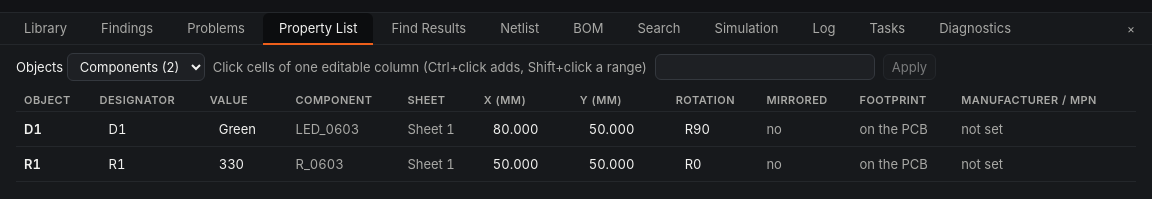
Test: Property List tab › mixed cells with an empty field: Apply is disabled with the reason until a value is given (F3, S3)
The width and height of the screenshot is (1152, 199).
Click the button with aria-label "Pick every Value cell".
click(229, 100)  # box [210,93,248,107]
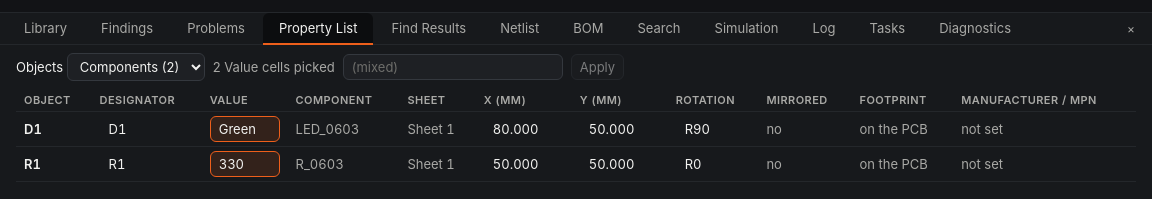
Expected: the button "Apply" is disabled, [571,54,624,80]
Press Enter in the field named "New value", box [343,54,563,80]
Type "1k" into the field named "New value".
click(453, 67); type("1k")  # box [343,54,563,80]
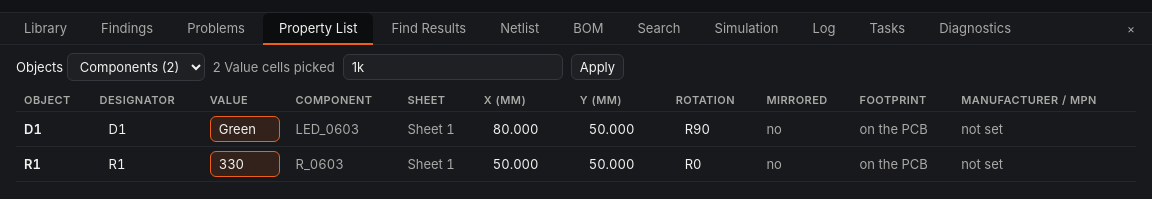
Result: the button "Apply" is enabled at [571,54,624,80]
Click the button with aria-label "Pick every Rotation cell".
click(705, 100)  # box [676,93,735,107]
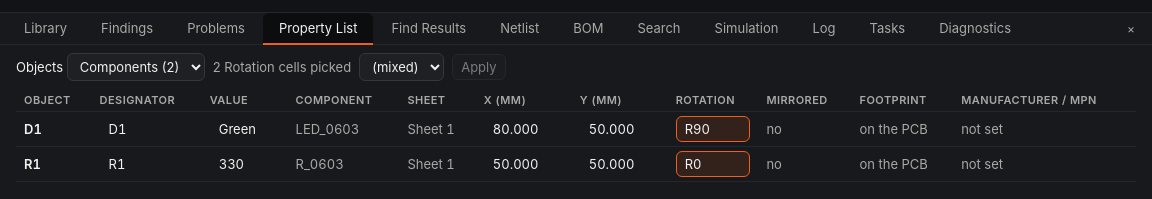
Result: the button "Apply" is disabled at [452,54,506,80]
Select "180°" in the dropdown named "New value" at (402, 67), box [359,53,444,81]
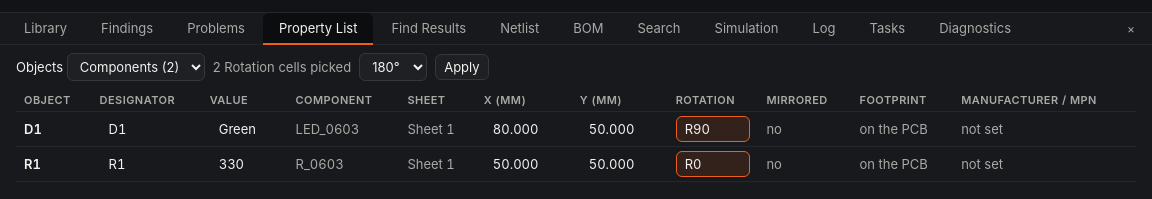
Result: the button "Apply" is enabled at [435,54,489,80]
